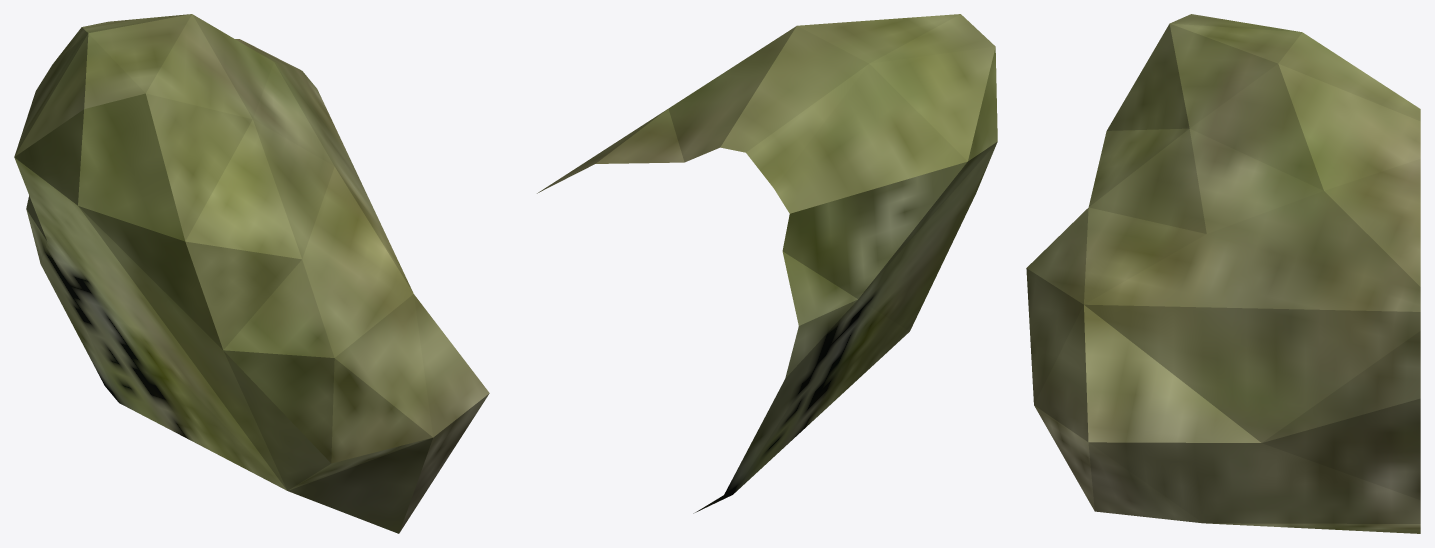
3 views of the same model, side by side, from view 1: azimuth 30°, elevation 25°; view 2: azimuth 150°, elevation 25°; view 3: azimuth 270°, elevation 25° (orthographic). The views are drawn at different scales.
Size of the model in its own units: 0.2919 by 0.3556 by 0.2955.
1 material, 1 textured.
